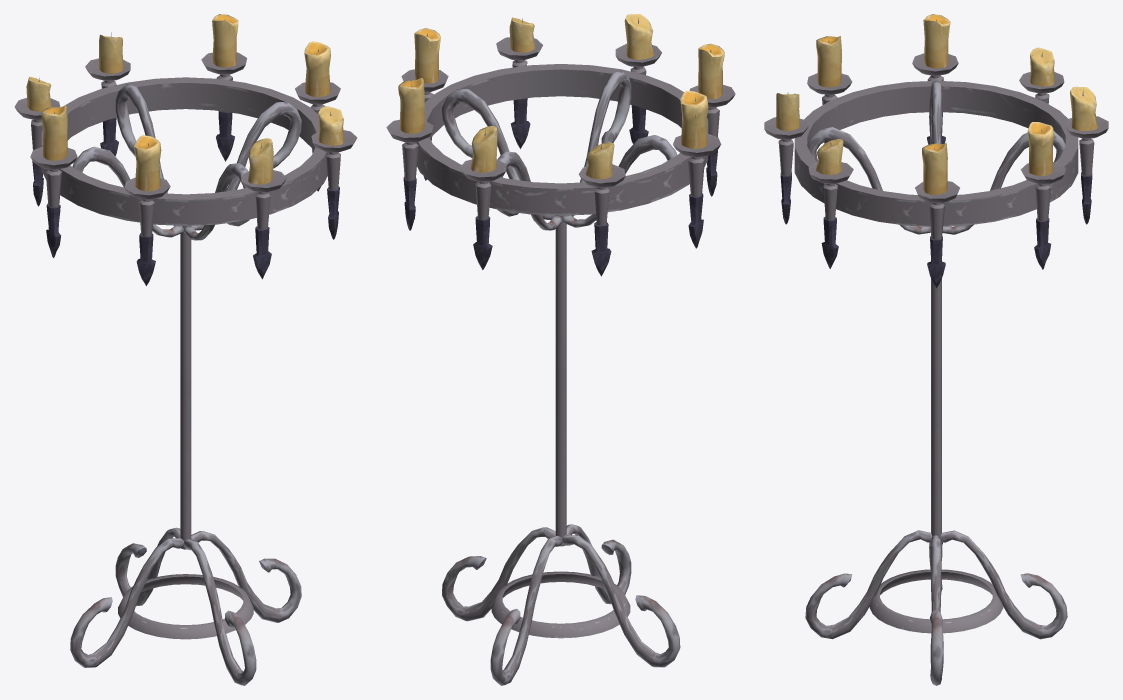
File: candle_stand.glb
The picture shows the model from 3 angles, left to right: view 1: azimuth 30°, elevation 25°; view 2: azimuth 150°, elevation 25°; view 3: azimuth 270°, elevation 25°; orthographic projection. The views are drawn at different scales.
Parts seen in each view (by area): view 1: CandleStick_Stand; view 2: CandleStick_Stand; view 3: CandleStick_Stand.
Part boxes in pixels (box(x1,y1,x2,y2)): CandleStick_Stand: box(14, 14, 357, 685); CandleStick_Stand: box(386, 14, 735, 685); CandleStick_Stand: box(764, 14, 1108, 685).
Size of the model in its own units: 0.7323 by 1.31 by 0.7313.
Materials: 2 (2 with a texture image).
